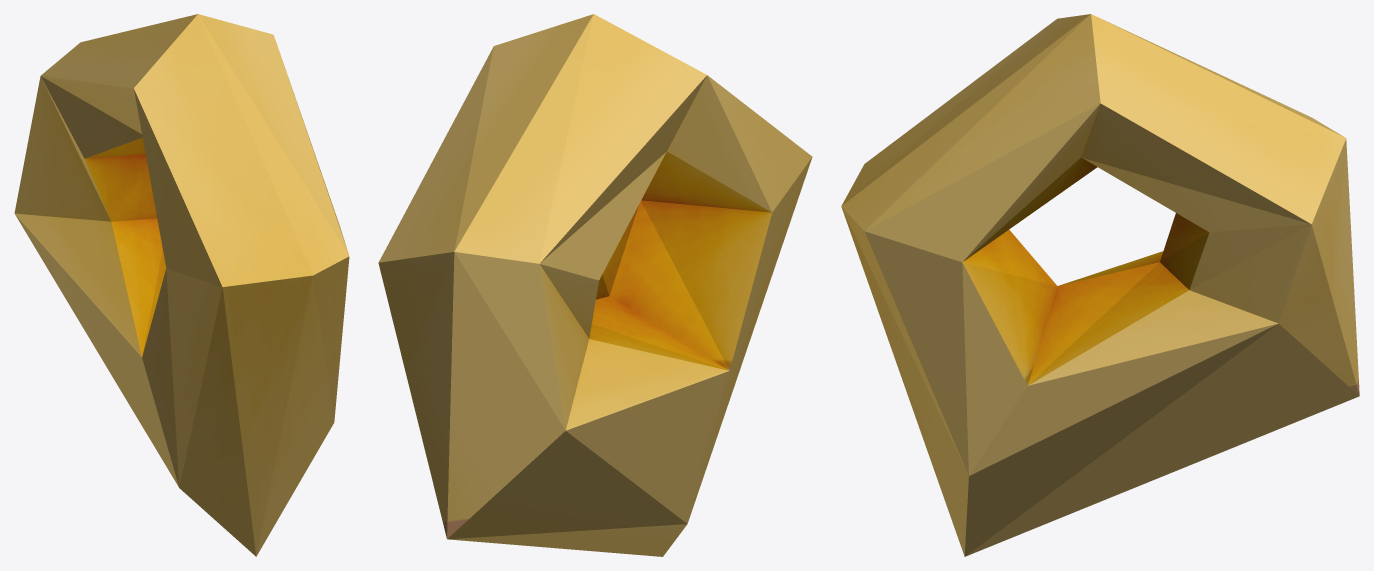
Rendered from tokenor.FBX.
3 renders of one model, left to right at view 1: azimuth 30°, elevation 25°; view 2: azimuth 150°, elevation 25°; view 3: azimuth 270°, elevation 25°, orthographic. The views are drawn at different scales.
Visible parts, largest first — view 1: OrToken; view 2: OrToken; view 3: OrToken.
Boxes of the visible parts, left/top/right/bottom form: OrToken: left=14, top=14, right=349, bottom=556; OrToken: left=378, top=14, right=812, bottom=556; OrToken: left=841, top=14, right=1359, bottom=556.
Size of the model in its own units: 10.44 by 28.41 by 24.59.
